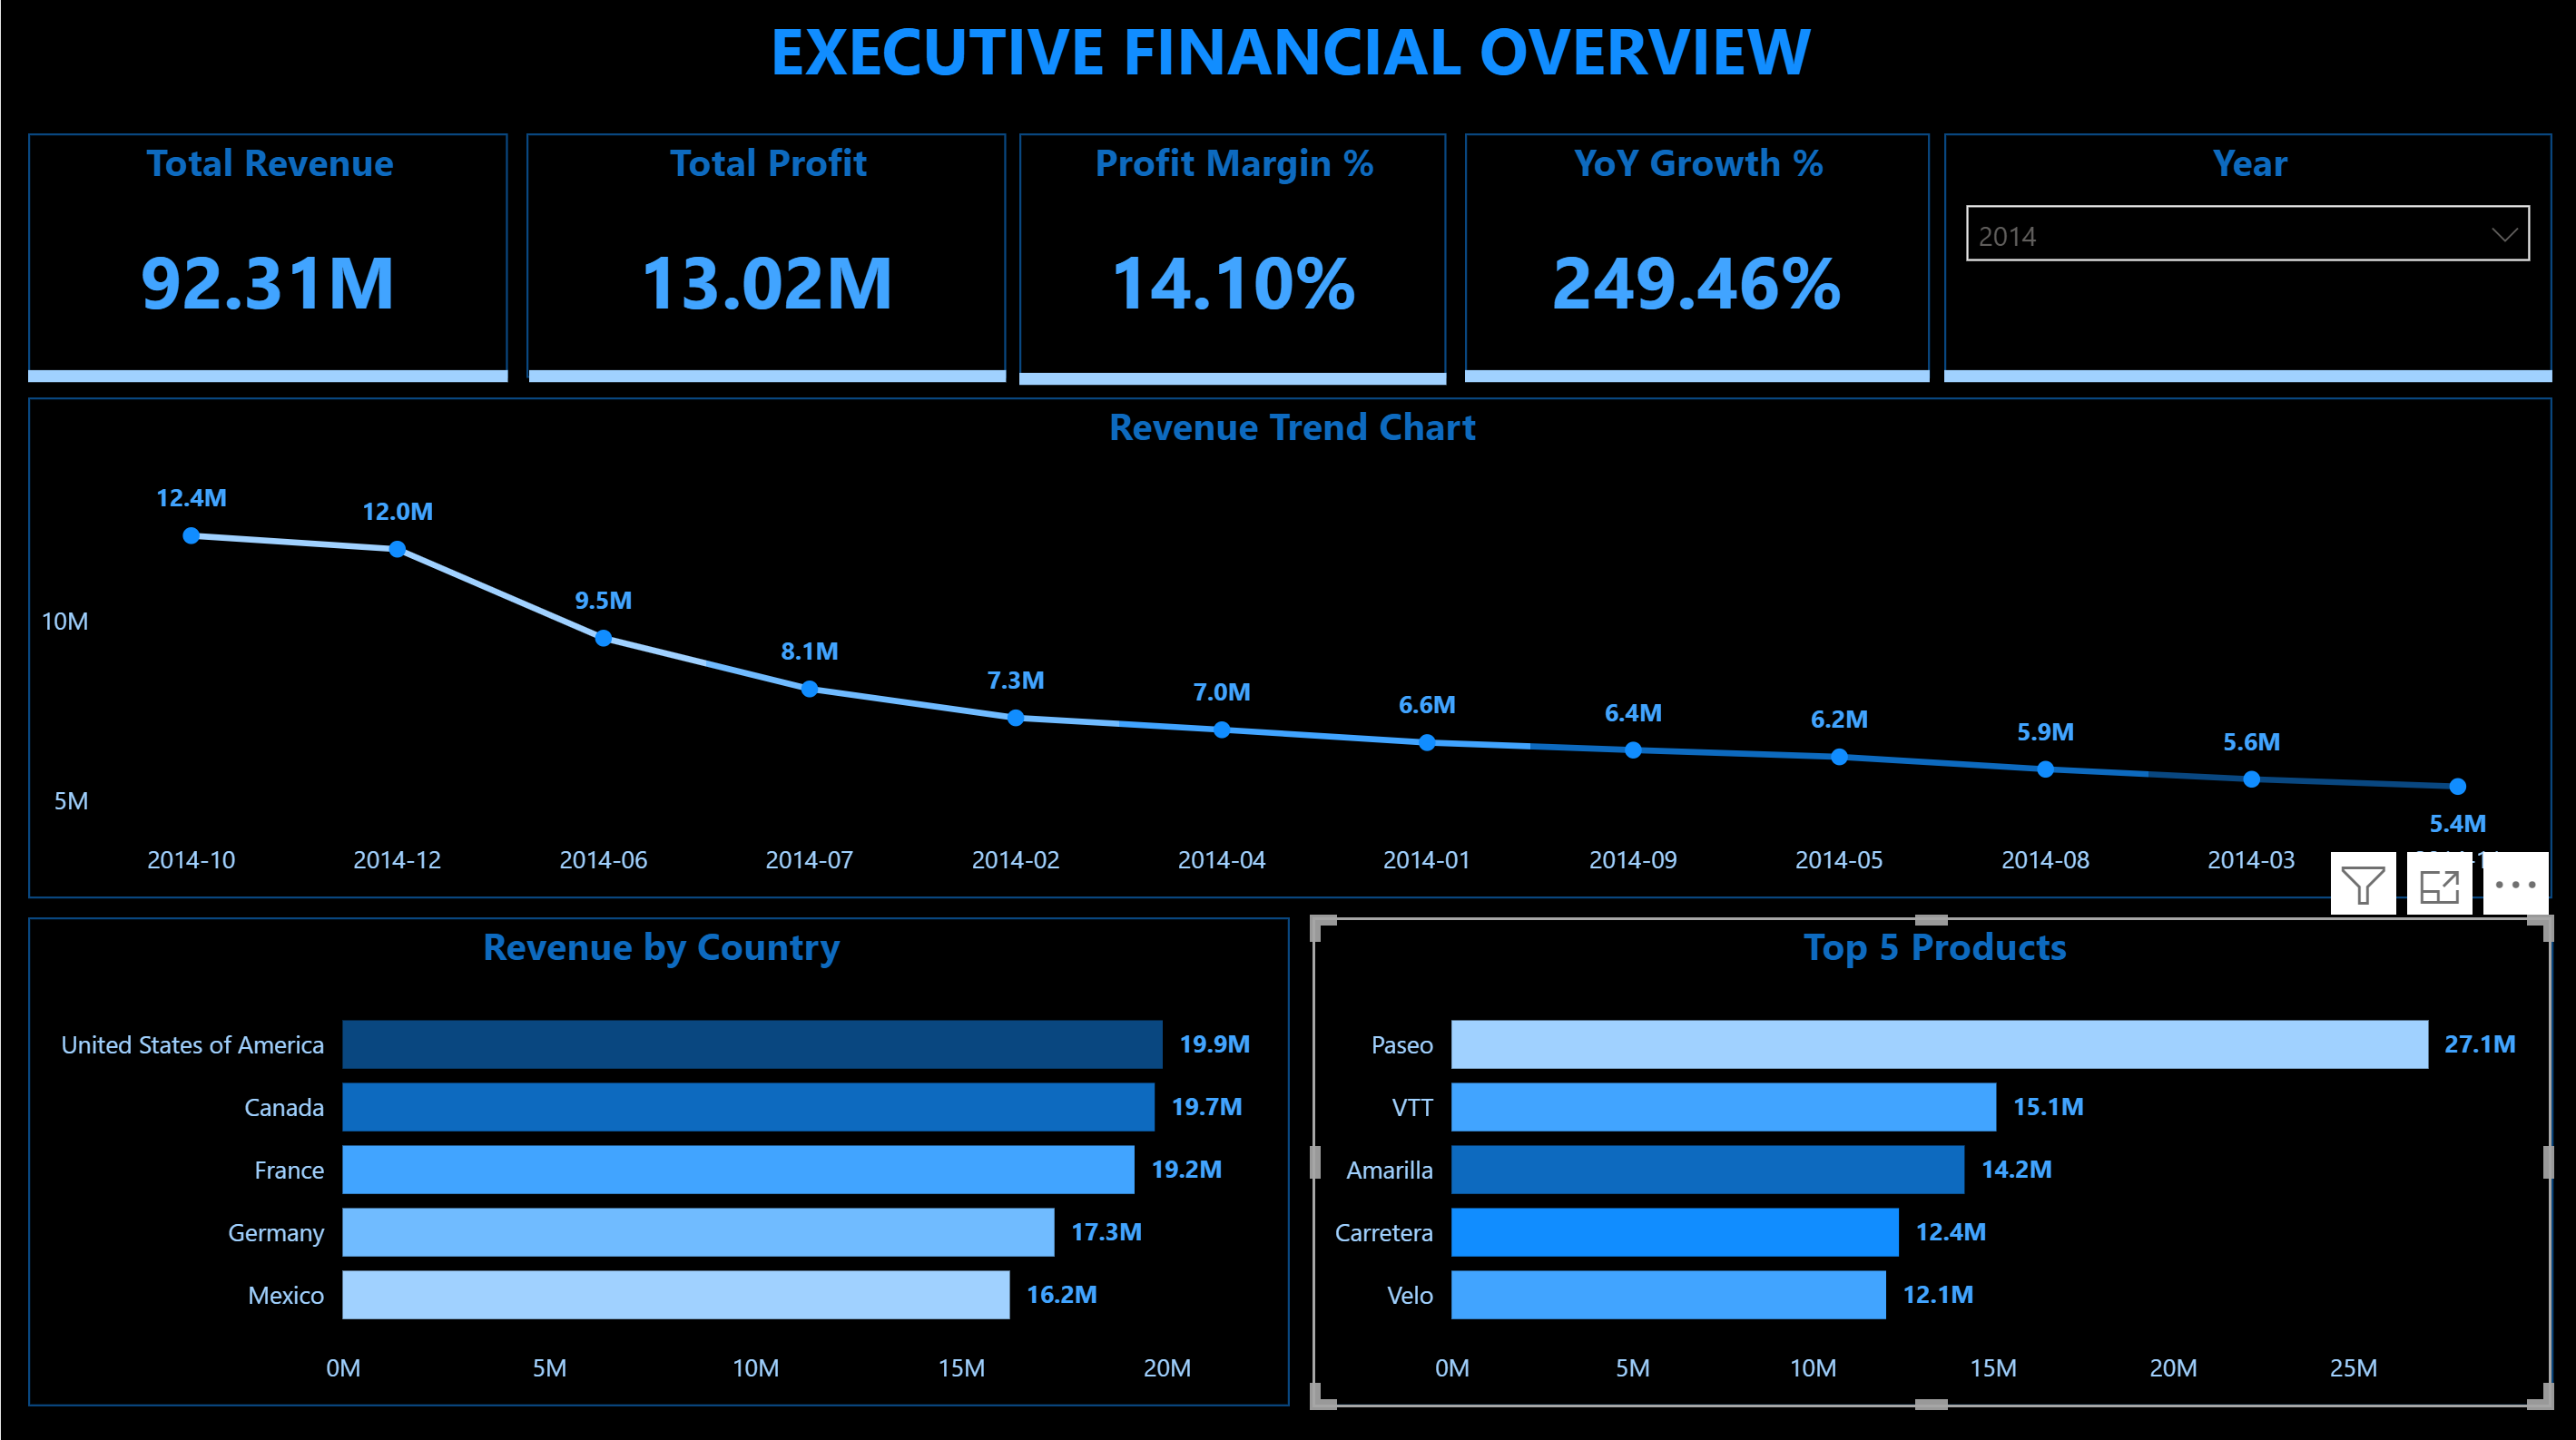

The page's visual inventory and layout, read from the dashboard file:
{"tool":"powerbi","page":{"name":"Executive Overview","canvas":[1280,720],"ordinal":0},"visuals":[{"type":"card","title":"Total Revenue","fields":{"Values":["Measure Table.Total Revenue"]},"box":[13.6,68.2,238.1,121.3],"z":0},{"type":"card","title":"Total Profit","fields":{"Values":["Measure Table.Total Profit"]},"box":[260.9,68.2,238.1,121.3],"z":1000},{"type":"card","title":"YoY Growth %","fields":{"Values":["Measure Table.YoY Growth %"]},"box":[726.4,68.2,230.5,121.3],"z":2000},{"type":"card","title":"Profit Margin %","fields":{"Values":["Measure Table.Profit Margin %"]},"box":[505,68.2,212.3,121.3],"z":3000},{"type":"lineChart","title":"Revenue Trend Chart","fields":{"Category":["DimDates.Year-Month"],"Y":["Measure Table.Total Revenue"]},"box":[13.6,200.2,1252.7,248.7],"z":4000},{"type":"barChart","title":"Revenue by Country","fields":{"Y":["Measure Table.Total Revenue"],"Category":["DimCountry.Country"]},"box":[13.6,458.4,626.4,242.7],"z":5000},{"type":"barChart","title":"Top 5 Products","fields":{"Y":["Measure Table.Total Revenue"],"Category":["DimProduct.Product"]},"box":[650.6,458.4,615.7,242.7],"z":6000},{"type":"slicer","title":"Year","fields":{"Values":["DimDates.Year"]},"box":[964.5,68.2,301.8,121.3],"z":7000},{"type":"textbox","box":[0,0,1280,57.6],"z":8000},{"type":"shape","box":[13.6,106.2,238.1,165.3],"z":9000},{"type":"shape","box":[505,107.7,212.3,165.3],"z":10000},{"type":"shape","box":[262.4,106.2,236.6,165.3],"z":11000},{"type":"shape","box":[726.4,106.2,230.5,165.3],"z":12000},{"type":"shape","box":[964.5,106.2,301.8,165.3],"z":13000}]}

Visuals, with their boxes in screenshot pixels (x1, y1, x2, y2), scaled from the page's 1280x720 canvas onto the 2576x1440 screenshot:
"Total Revenue" card: locate(27, 136, 506, 379)
"Total Profit" card: locate(525, 136, 1004, 379)
"YoY Growth %" card: locate(1462, 136, 1926, 379)
"Profit Margin %" card: locate(1017, 136, 1443, 379)
"Revenue Trend Chart" lineChart: locate(27, 400, 2549, 897)
"Revenue by Country" barChart: locate(27, 916, 1288, 1402)
"Top 5 Products" barChart: locate(1310, 916, 2549, 1402)
"Year" slicer: locate(1941, 136, 2549, 379)
textbox: locate(0, 0, 2575, 115)
shape: locate(27, 212, 506, 543)
shape: locate(1017, 215, 1443, 546)
shape: locate(528, 212, 1004, 543)
shape: locate(1462, 212, 1926, 543)
shape: locate(1941, 212, 2549, 543)
